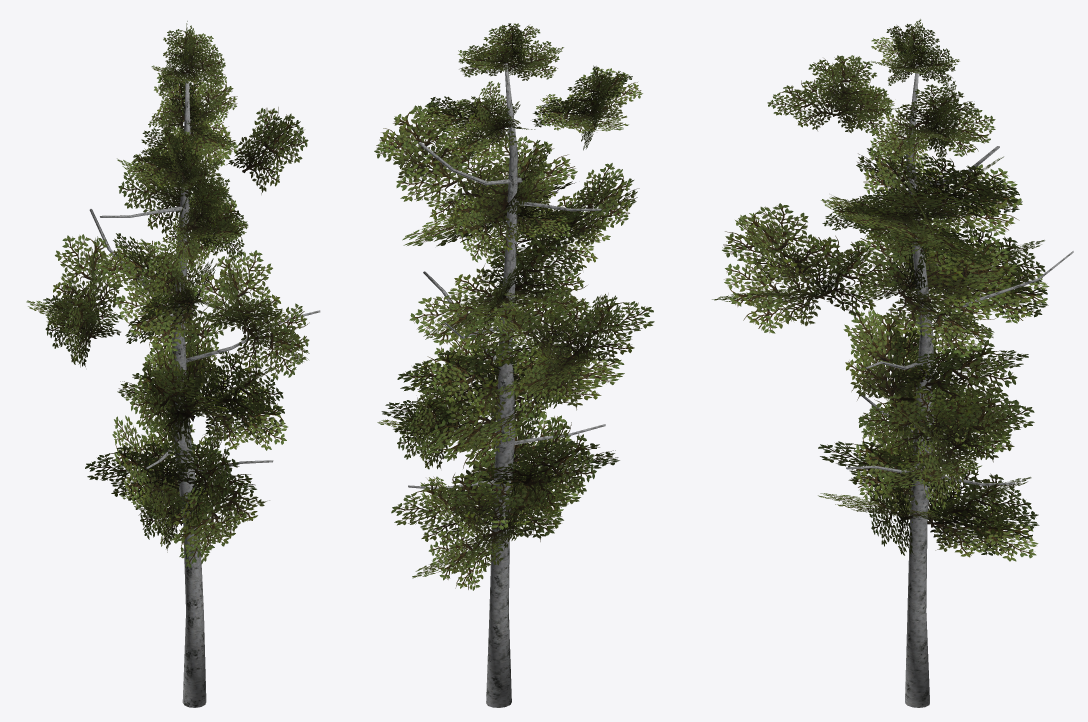
Rendered from tree_large_04.fbx.
3 renders of one model, left to right at view 1: azimuth 30°, elevation 25°; view 2: azimuth 150°, elevation 25°; view 3: azimuth 270°, elevation 25°, orthographic.
Parts seen in each view (by area): view 1: tree_large_04; view 2: tree_large_04; view 3: tree_large_04.
Part boxes in pixels (x1=…): tree_large_04: x1=26, y1=21, x2=320, y2=707; tree_large_04: x1=374, y1=23, x2=654, y2=707; tree_large_04: x1=712, y1=19, x2=1073, y2=707.
Size of the model in its own units: 16.29 by 18.6 by 36.87.
